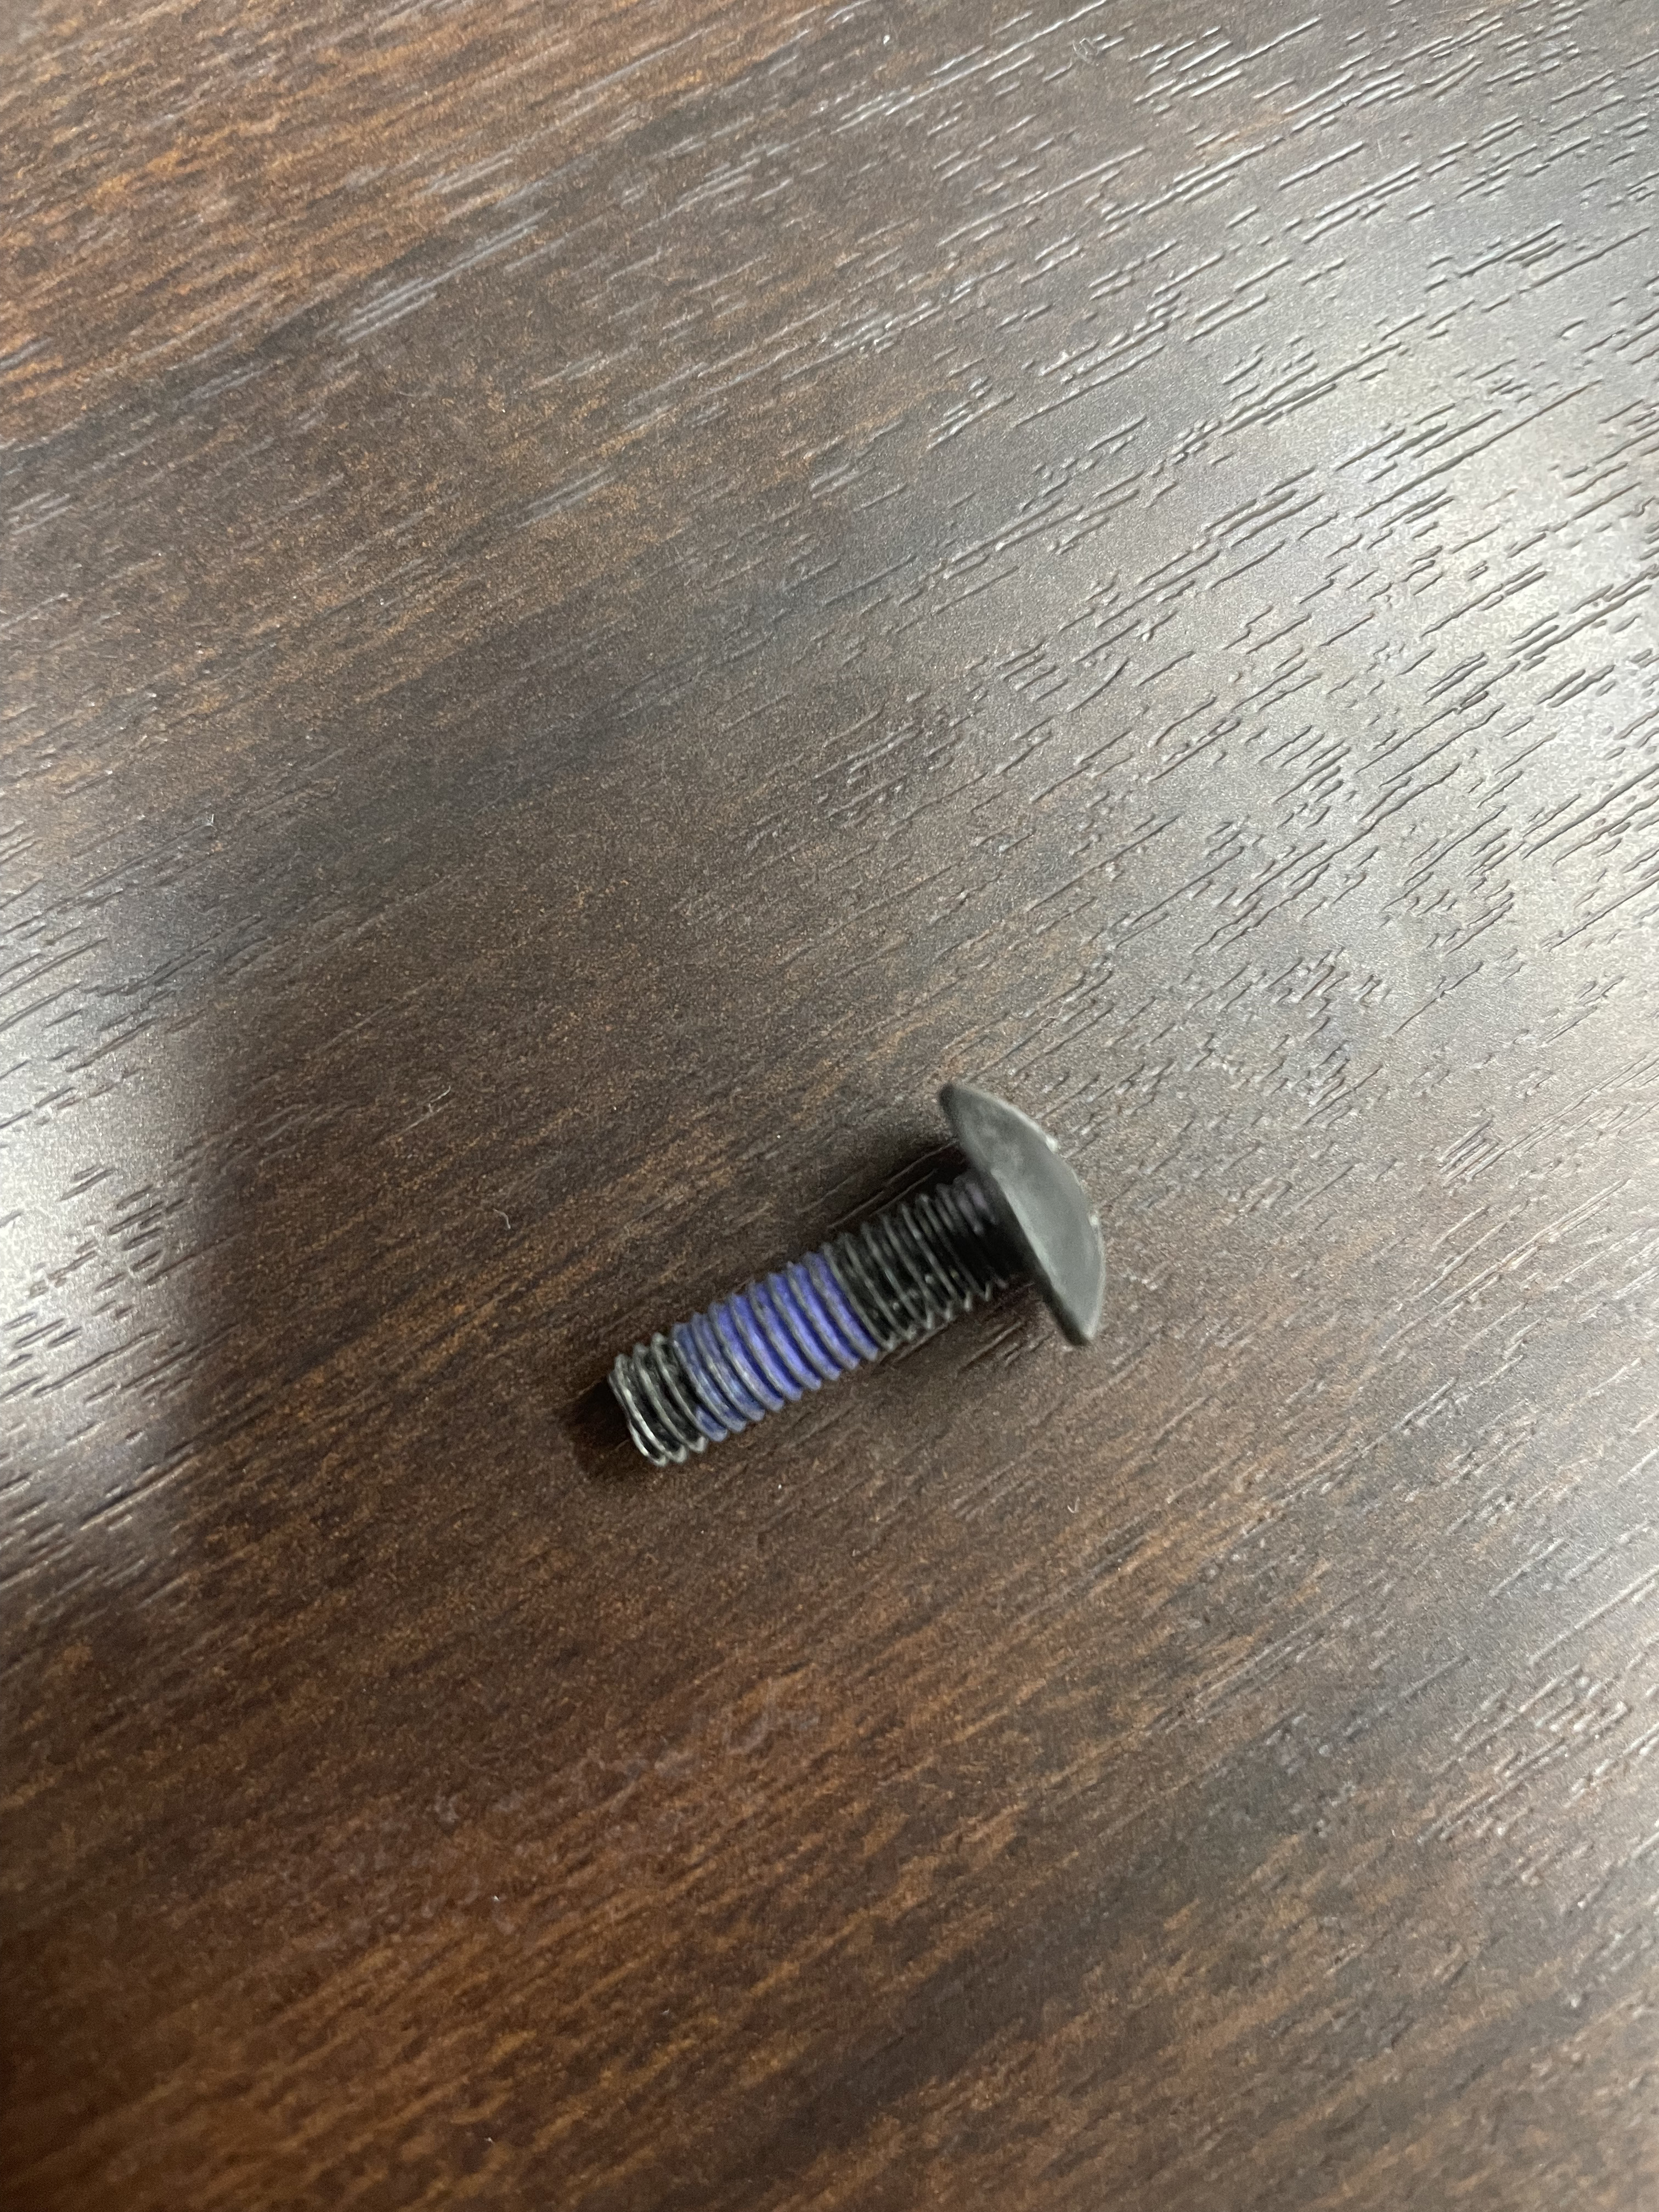screw1: (595, 1081, 1115, 1479)
